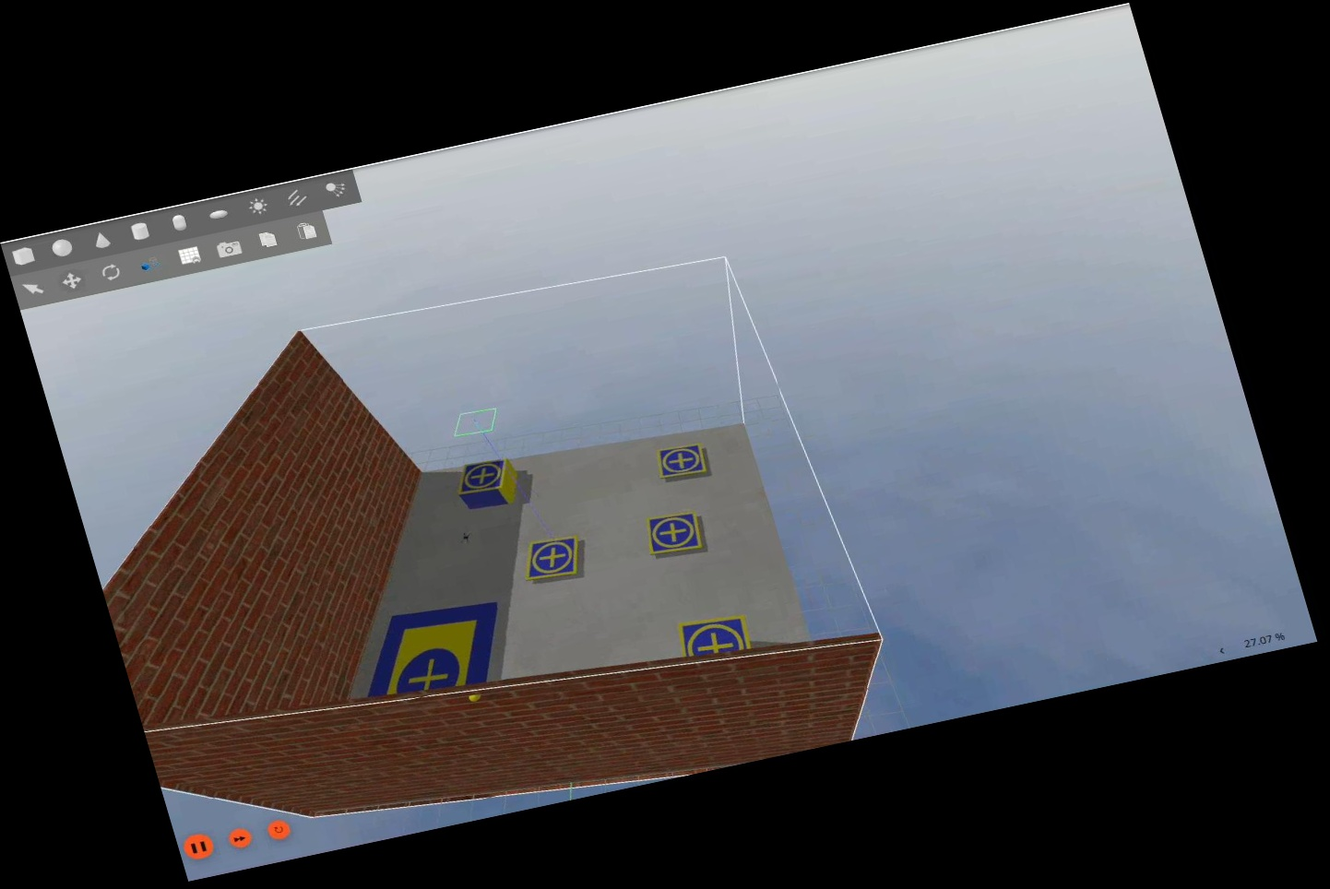large_base: (348, 593, 520, 706)
small_base: (673, 609, 756, 665), (638, 506, 708, 561), (517, 532, 588, 585), (452, 456, 517, 499), (652, 438, 711, 482)
